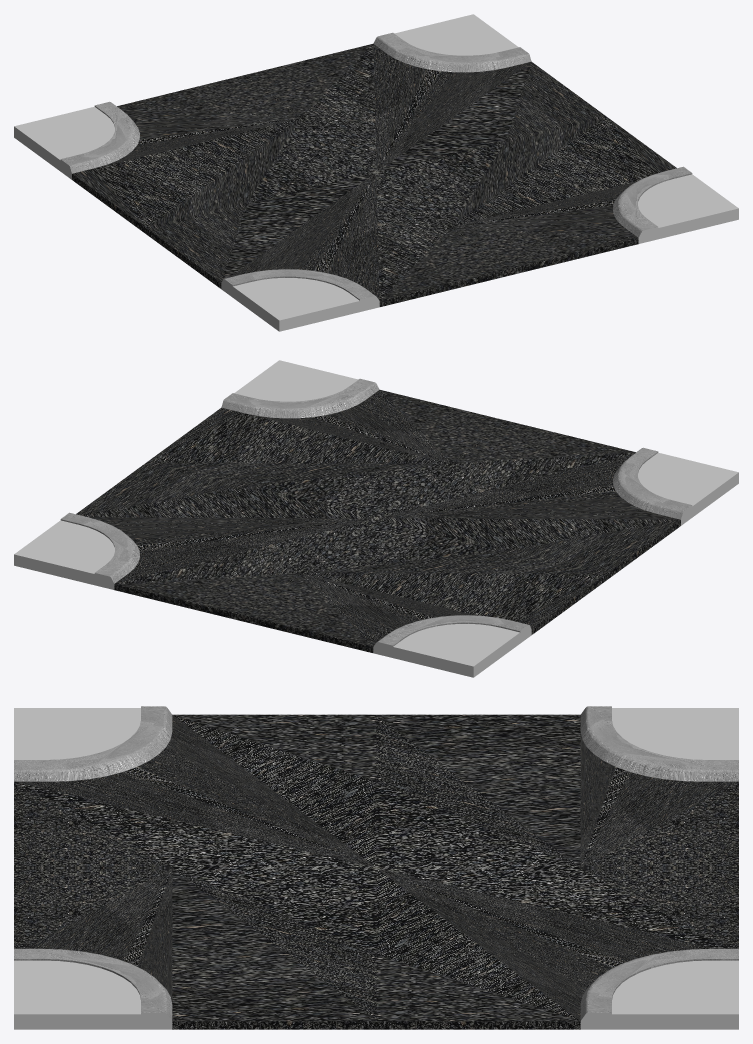
The model's file is tile3.fbx.
3 renders of one model, top to bottom at view 1: azimuth 30°, elevation 25°; view 2: azimuth 150°, elevation 25°; view 3: azimuth 270°, elevation 25°, orthographic. The views are drawn at different scales.
Visible parts, largest first — view 1: Cube; view 2: Cube; view 3: Cube.
Part boxes in pixels (bbox=[...]): Cube: bbox=[14, 14, 738, 331]; Cube: bbox=[14, 360, 738, 677]; Cube: bbox=[14, 706, 738, 1029].
Bounding box in the file's own units: 600 × 15.53 × 600.
